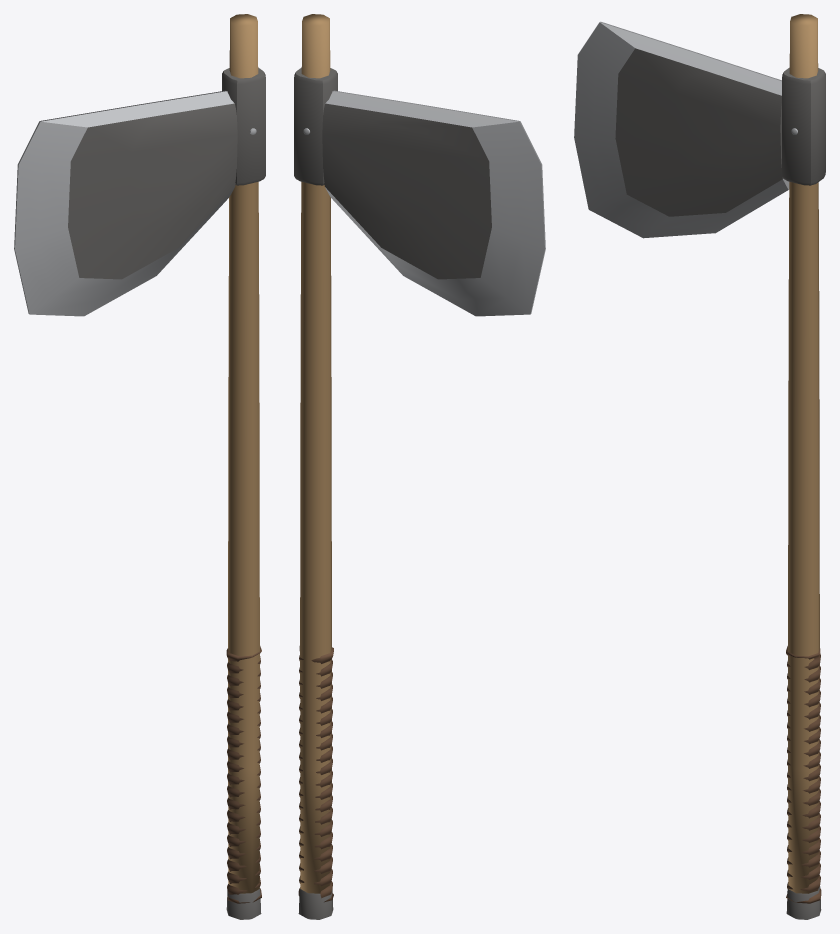
The model's file is butchering-axe.glb.
3 renders of one model, left to right at view 1: azimuth 30°, elevation 25°; view 2: azimuth 150°, elevation 25°; view 3: azimuth 330°, elevation 25°, orthographic.
Parts seen in each view (by area): view 1: butchering-axe; view 2: butchering-axe; view 3: butchering-axe.
Part boxes in pixels (left/top/right/bottom): butchering-axe: left=14, top=14, right=265, bottom=919; butchering-axe: left=294, top=14, right=545, bottom=919; butchering-axe: left=574, top=14, right=825, bottom=919.
Bounding box in the file's own units: 0.9837 × 3.41 × 0.1435.
